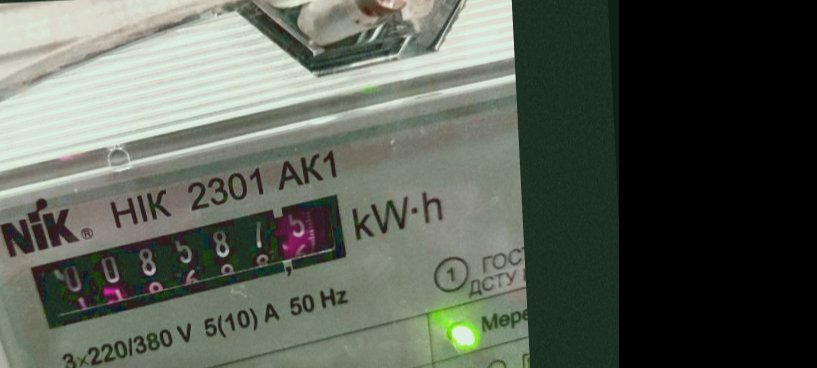0: (96, 248, 123, 283), (58, 258, 86, 291)
5: (171, 232, 195, 264), (284, 204, 307, 236)
6: (290, 239, 309, 257)
7: (245, 215, 269, 250)
8: (134, 242, 160, 275), (208, 224, 232, 258)
screen: (18, 190, 371, 329)
